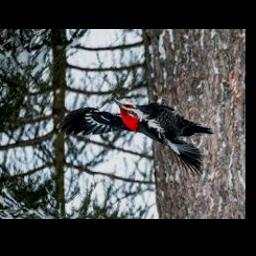Woodpecker: (56, 99, 212, 177)
